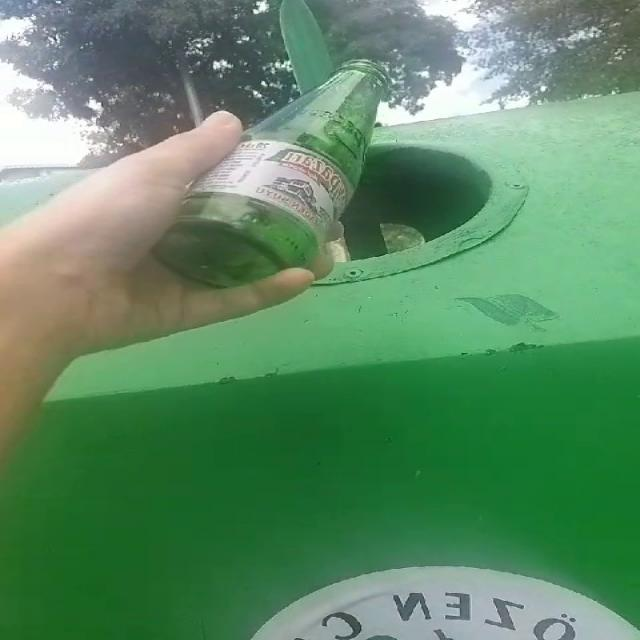glass: (153, 60, 388, 286)
